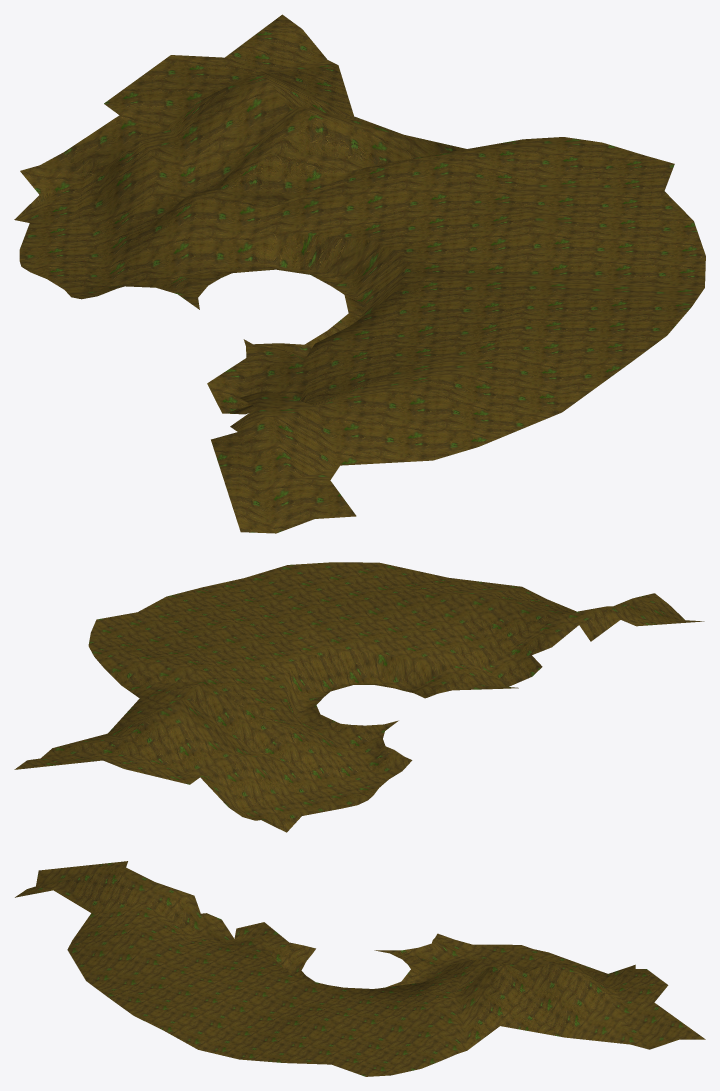
File: MIRKWOOD_AREA0_BARRIER.fbx
The picture shows the model from 3 angles, top to bottom: view 1: azimuth 30°, elevation 25°; view 2: azimuth 150°, elevation 25°; view 3: azimuth 270°, elevation 25°; orthographic projection. The views are drawn at different scales.
Visible parts, largest first — view 1: MIRKWOOD_AREA0_BARRIER; view 2: MIRKWOOD_AREA0_BARRIER; view 3: MIRKWOOD_AREA0_BARRIER.
Boxes of the visible parts, x1=… form: MIRKWOOD_AREA0_BARRIER: x1=14, y1=14, x2=705, y2=533; MIRKWOOD_AREA0_BARRIER: x1=14, y1=562, x2=704, y2=832; MIRKWOOD_AREA0_BARRIER: x1=15, y1=861, x2=705, y2=1076.
Bounding box in the file's own units: 1395172 × 230815 × 1865447.
Materials: 1 (1 with a texture image).
